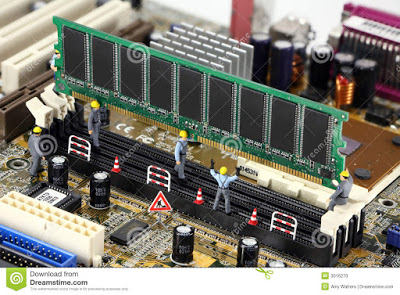ram: (52, 14, 349, 191)
